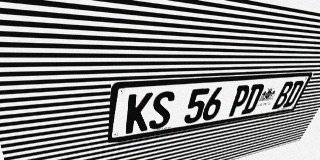5: (183, 88, 210, 124)
6: (200, 86, 227, 121)
B: (271, 81, 295, 109)
D: (240, 83, 266, 115), (282, 80, 305, 108)
K: (125, 92, 153, 134)
P: (226, 84, 252, 117)
S: (148, 91, 176, 130)
